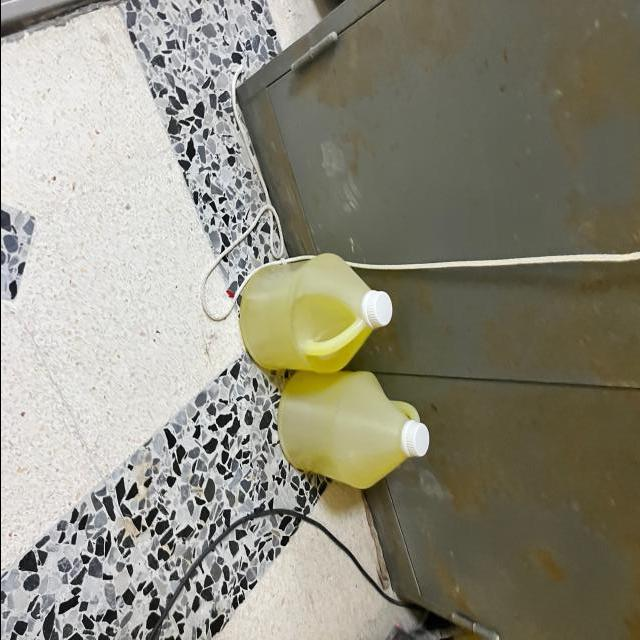HDPE Plastic: (279, 363, 437, 493), (236, 250, 399, 370)
